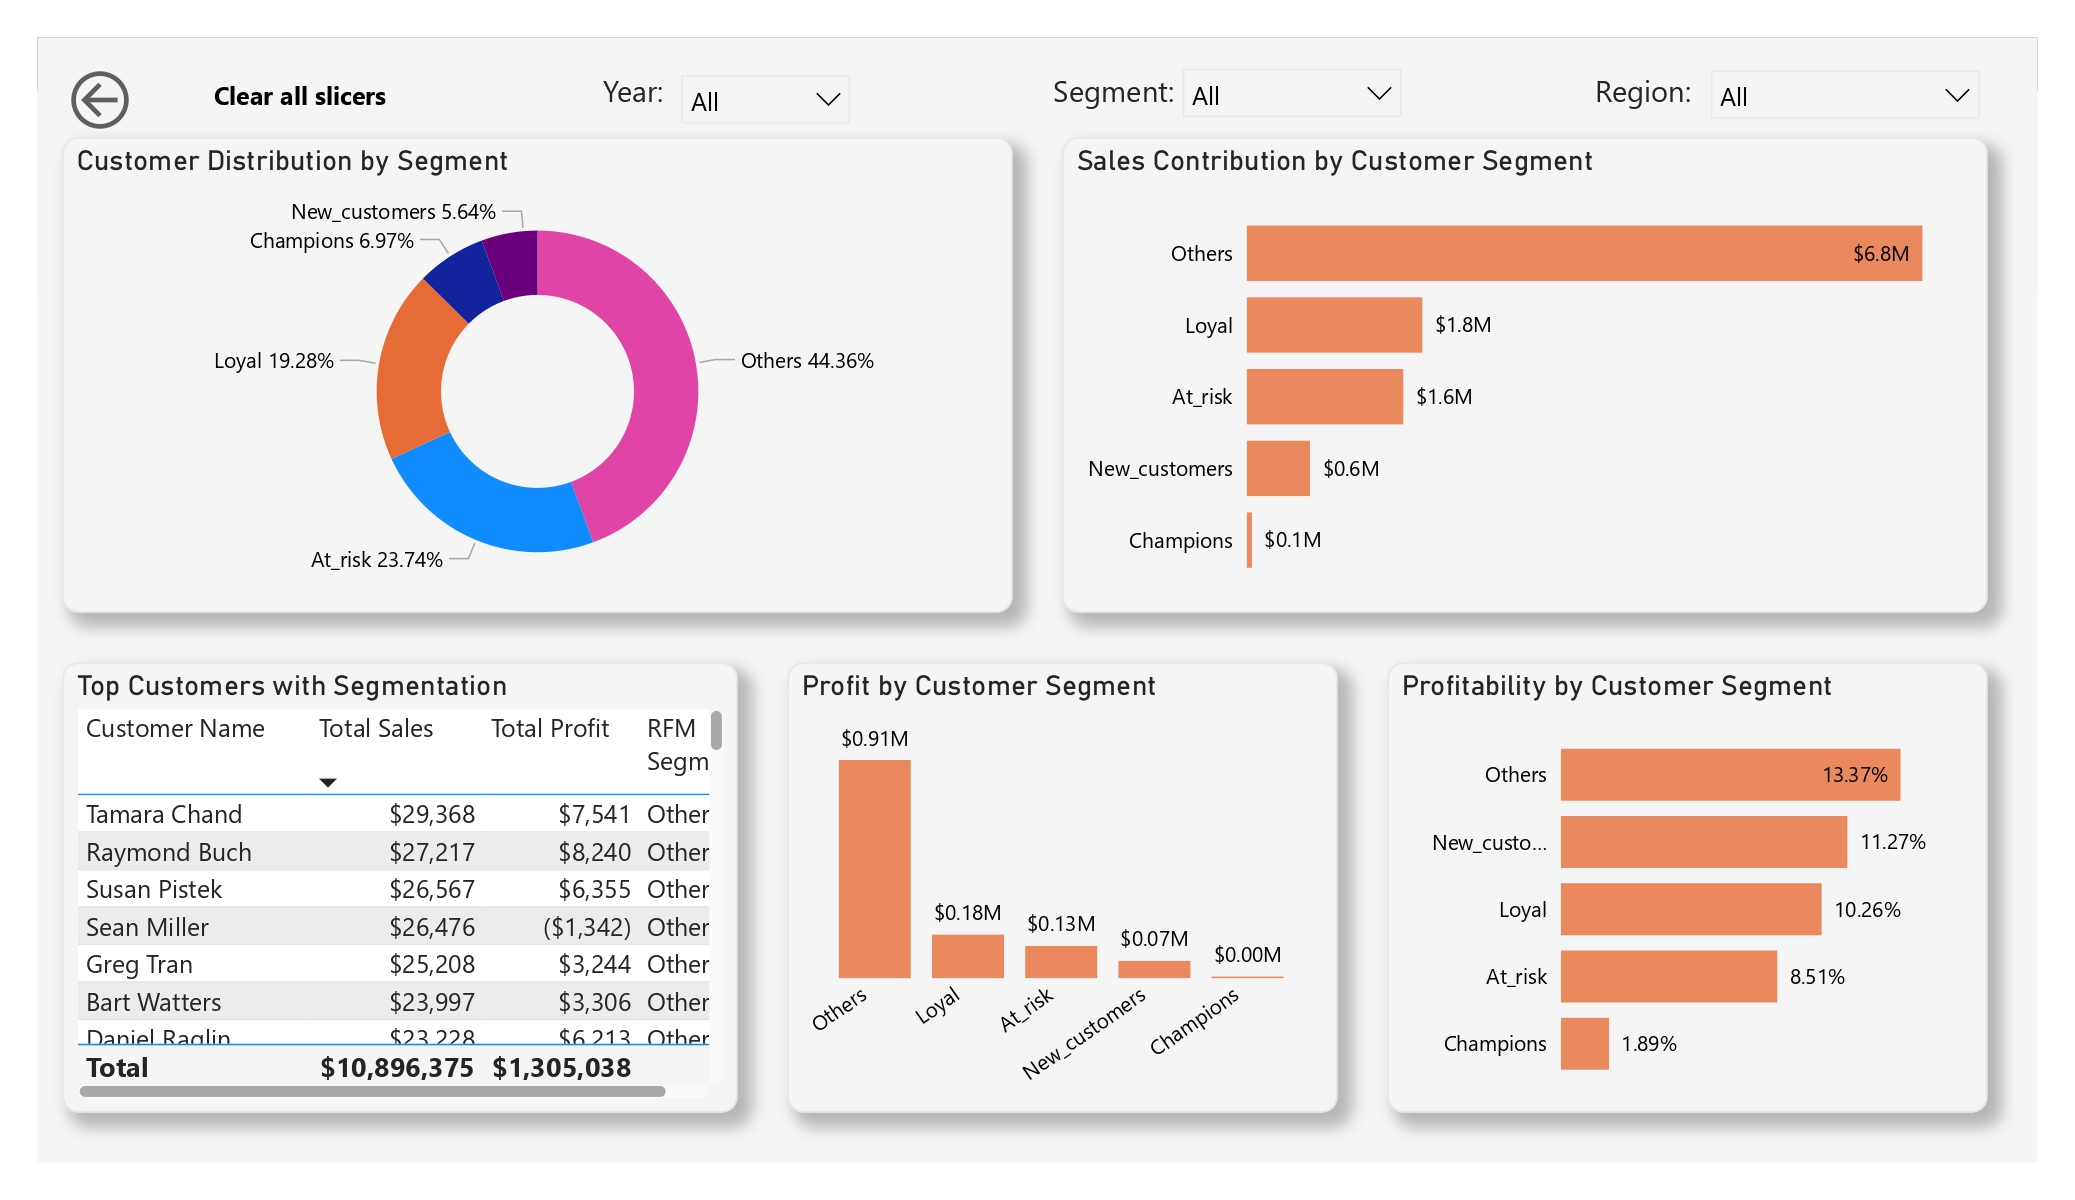

The dashboard page shown, as its layout file describes it:
{"tool":"powerbi","page":{"name":"Customer Analytics(RFM)","canvas":[1280,720],"ordinal":2},"visuals":[{"type":"donutChart","title":"Customer Distribution by Segment","fields":{"Category":["Customer_segment.rfm_segment"],"Y":["CountNonNull(Customer_segment.Customer_ID)"]},"box":[16,64,608,304],"z":0},{"type":"clusteredBarChart","title":"Sales Contribution by Customer Segment","fields":{"Category":["Customer_segment.rfm_segment"],"Y":["MeasuresAll.Total Sales"]},"box":[656,64,592,304],"z":1},{"type":"columnChart","title":"Profit by Customer Segment","fields":{"Category":["Customer_segment.rfm_segment"],"Y":["MeasuresAll.Total Profit"]},"box":[480,400,352,288],"z":2},{"type":"barChart","title":"Profitability by Customer Segment","fields":{"Category":["Customer_segment.rfm_segment"],"Y":["MeasuresAll.Profit Margin"]},"box":[864,400,384,288],"z":3},{"type":"tableEx","title":"Top Customers with Segmentation","fields":{"Values":["Customer_segment.Customer_Name","MeasuresAll.Total Sales","MeasuresAll.Total Profit","Customer_segment.rfm_segment"]},"box":[16,400,432,288],"z":4},{"type":"actionButton","box":[16,16,64,48],"z":5},{"type":"slicer","fields":{"Values":["DimDate.Year"]},"box":[401.7,14.1,128,48],"z":6},{"type":"slicer","fields":{"Values":["Orders.Segment"]},"box":[723.5,10.4,160,48],"z":7},{"type":"slicer","fields":{"Values":["Orders.Region"]},"box":[1061.2,11.3,192,48],"z":8},{"type":"textbox","box":[352,16,64,48],"z":9},{"type":"textbox","box":[640,16,96,48],"z":10},{"type":"textbox","box":[992,16,80,48],"z":11},{"type":"actionButton","box":[96,12.3,144,48],"z":12}]}

Visuals, with their boxes on the page's 1280x720 design canvas (x1, y1, x2, y2). These are canvas units, not pixel positions in the 2075x1200 screenshot, which may show the page scaled, cropped or inside an application window:
"Customer Distribution by Segment" donutChart: 16,64,624,368
"Sales Contribution by Customer Segment" clusteredBarChart: 656,64,1248,368
"Profit by Customer Segment" columnChart: 480,400,832,688
"Profitability by Customer Segment" barChart: 864,400,1248,688
"Top Customers with Segmentation" tableEx: 16,400,448,688
actionButton: 16,16,80,64
slicer - DimDate.Year: 402,14,530,62
slicer - Orders.Segment: 724,10,884,58
slicer - Orders.Region: 1061,11,1253,59
textbox: 352,16,416,64
textbox: 640,16,736,64
textbox: 992,16,1072,64
actionButton: 96,12,240,60
